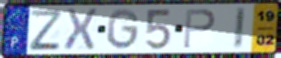5: (144, 8, 173, 51)
G: (106, 7, 141, 51)
I: (233, 6, 248, 51)
P: (182, 8, 217, 50)
X: (62, 7, 99, 53)
Z: (28, 9, 62, 52)
